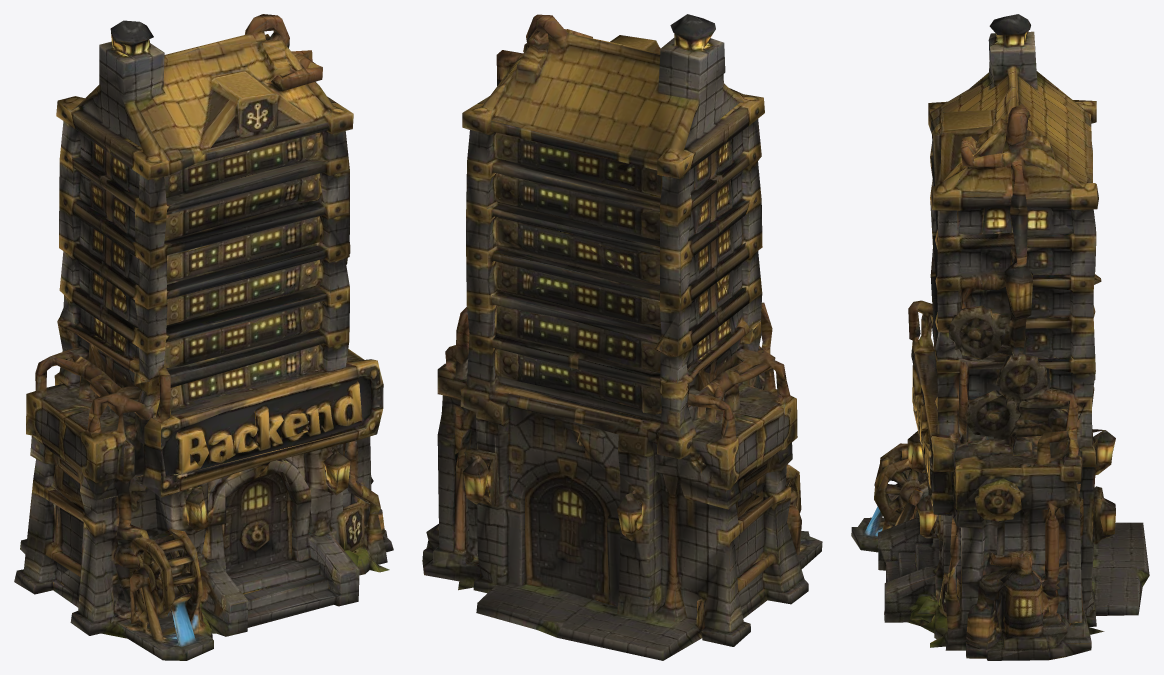
File: skill-backend.glb
3 renders of one model, left to right at view 1: azimuth 30°, elevation 25°; view 2: azimuth 150°, elevation 25°; view 3: azimuth 270°, elevation 25°, orthographic. The views are drawn at different scales.
Visible parts, largest first — view 1: Mesh1.0; view 2: Mesh1.0; view 3: Mesh1.0.
Part boxes in pixels (x1,y1,x2,y2): Mesh1.0: [14, 14, 393, 660]; Mesh1.0: [422, 14, 822, 660]; Mesh1.0: [851, 14, 1149, 660].
Size of the model in its own units: 1.13 by 1.9 by 0.9633.
Materials: 1 (1 with a texture image).
